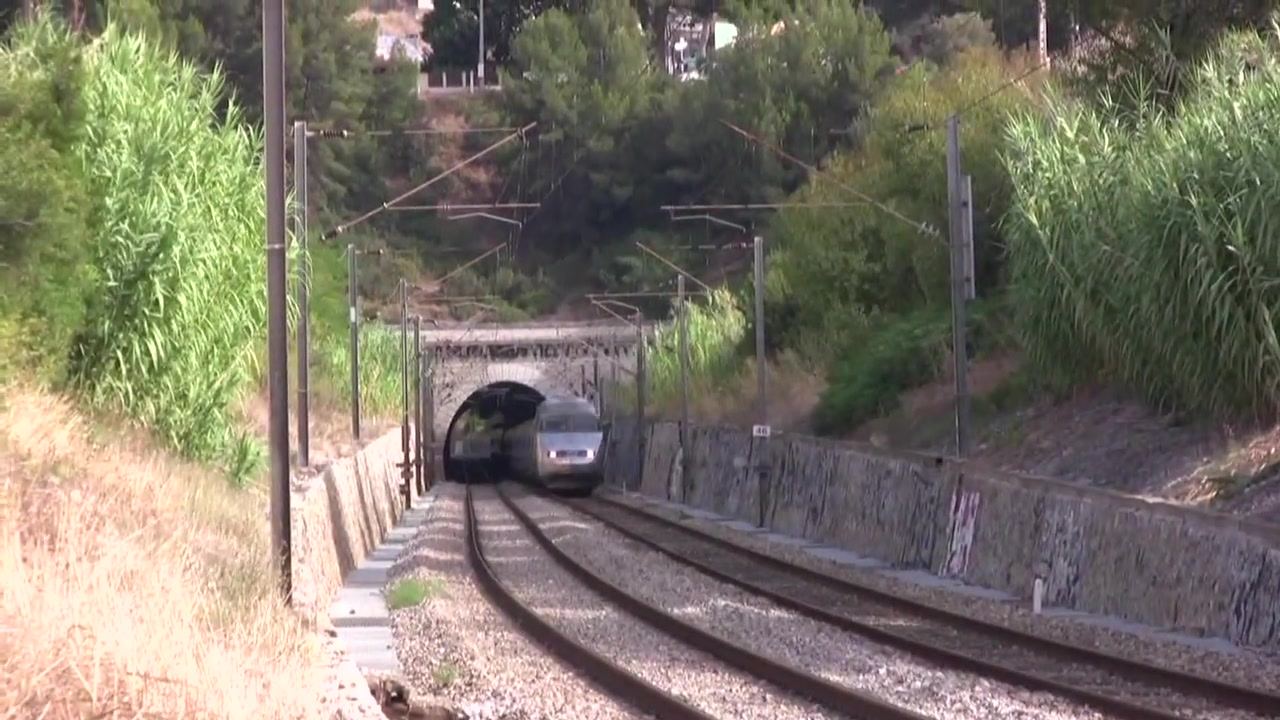train: (472, 398, 614, 494)
